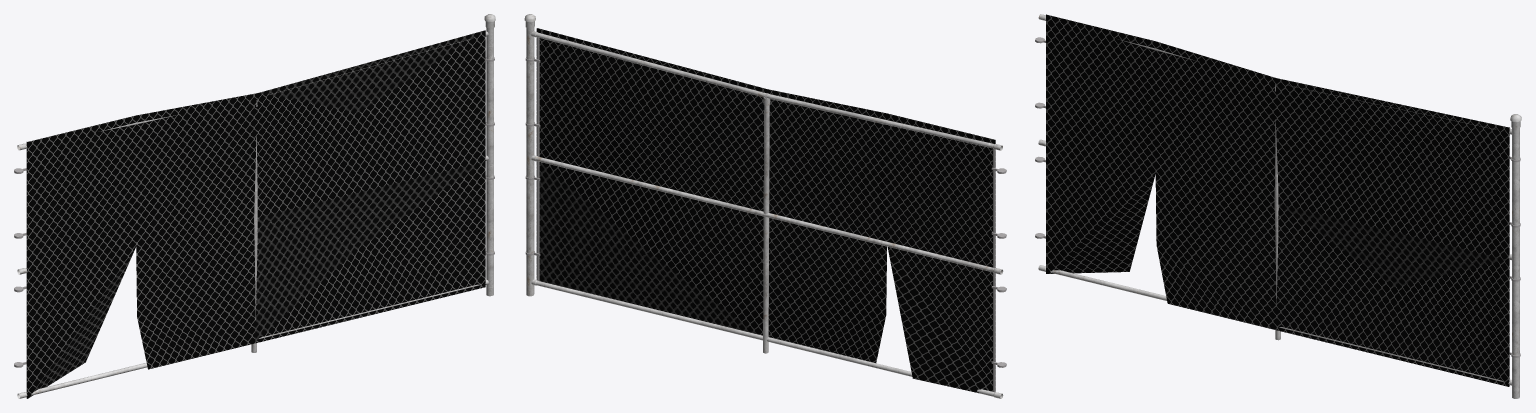
File: ChainlinkFence_Tall_C.fbx
3 views of the same model, side by side, from view 1: azimuth 30°, elevation 25°; view 2: azimuth 150°, elevation 25°; view 3: azimuth 330°, elevation 25° (orthographic).
Visible parts, largest first — view 1: ChainlinkFence_Tall_C_LOD0; view 2: ChainlinkFence_Tall_C_LOD0; view 3: ChainlinkFence_Tall_C_LOD0.
Part boxes in pixels (x1,y1,x2,y2): ChainlinkFence_Tall_C_LOD0: [14, 14, 495, 398]; ChainlinkFence_Tall_C_LOD0: [524, 14, 1006, 398]; ChainlinkFence_Tall_C_LOD0: [1035, 14, 1521, 398].
Size of what is drawn, in the model's own units: 510 by 284 by 25.65.
